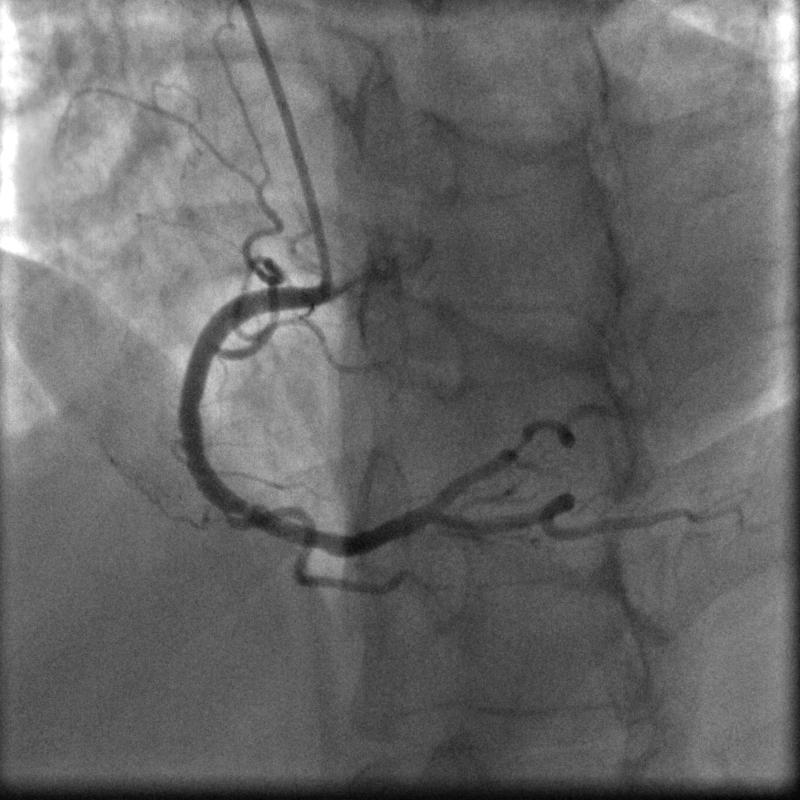Stenosis: (504, 423, 539, 455)
